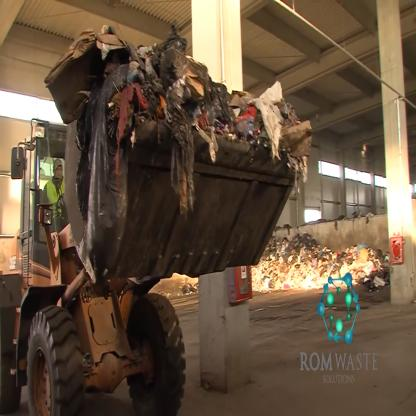Glass Bottle: (196, 96, 221, 134)
